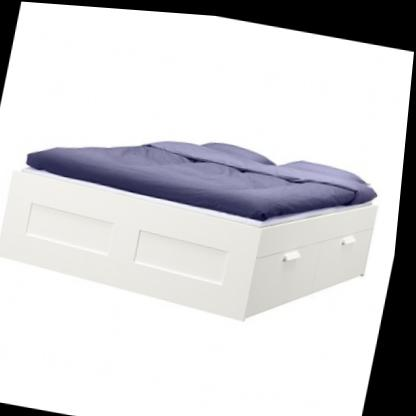Bed: (0, 96, 394, 339)
